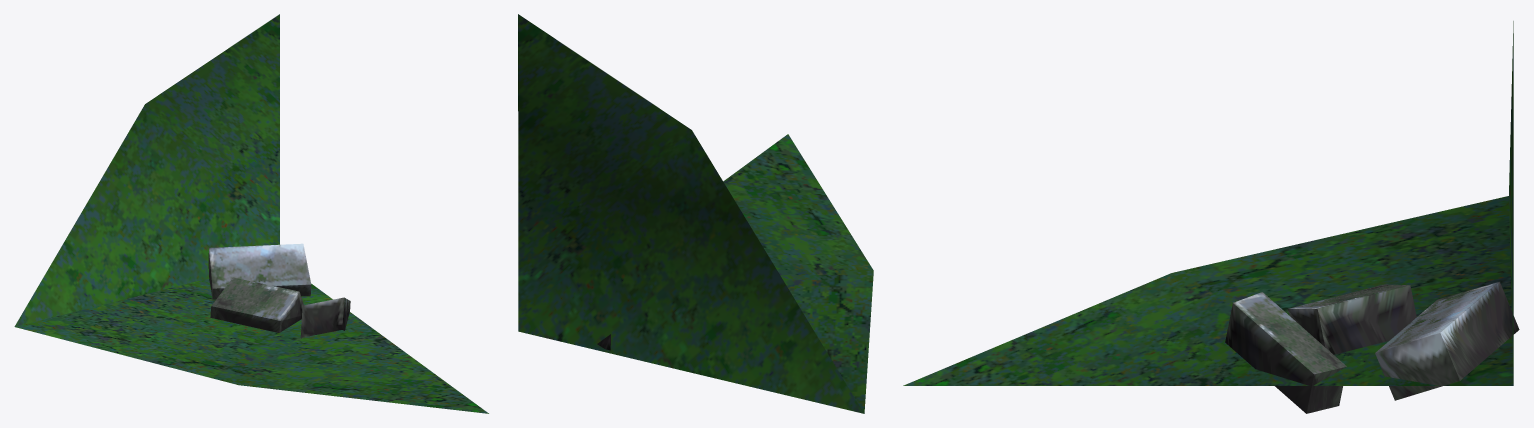
The model's file is stemple_rubble_cap_01.fbx.
3 renders of one model, left to right at view 1: azimuth 30°, elevation 25°; view 2: azimuth 150°, elevation 25°; view 3: azimuth 270°, elevation 25°, orthographic. The views are drawn at different scales.
Visible parts, largest first — view 1: stemple_rubble_cap_01-0; view 2: stemple_rubble_cap_01-0; view 3: stemple_rubble_cap_01-0.
Boxes of the visible parts, x1=… form: stemple_rubble_cap_01-0: x1=14, y1=14, x2=488, y2=413; stemple_rubble_cap_01-0: x1=518, y1=14, x2=873, y2=413; stemple_rubble_cap_01-0: x1=903, y1=21, x2=1519, y2=413.
Bounding box in the file's own units: 2.49 × 2.42 × 3.36.
